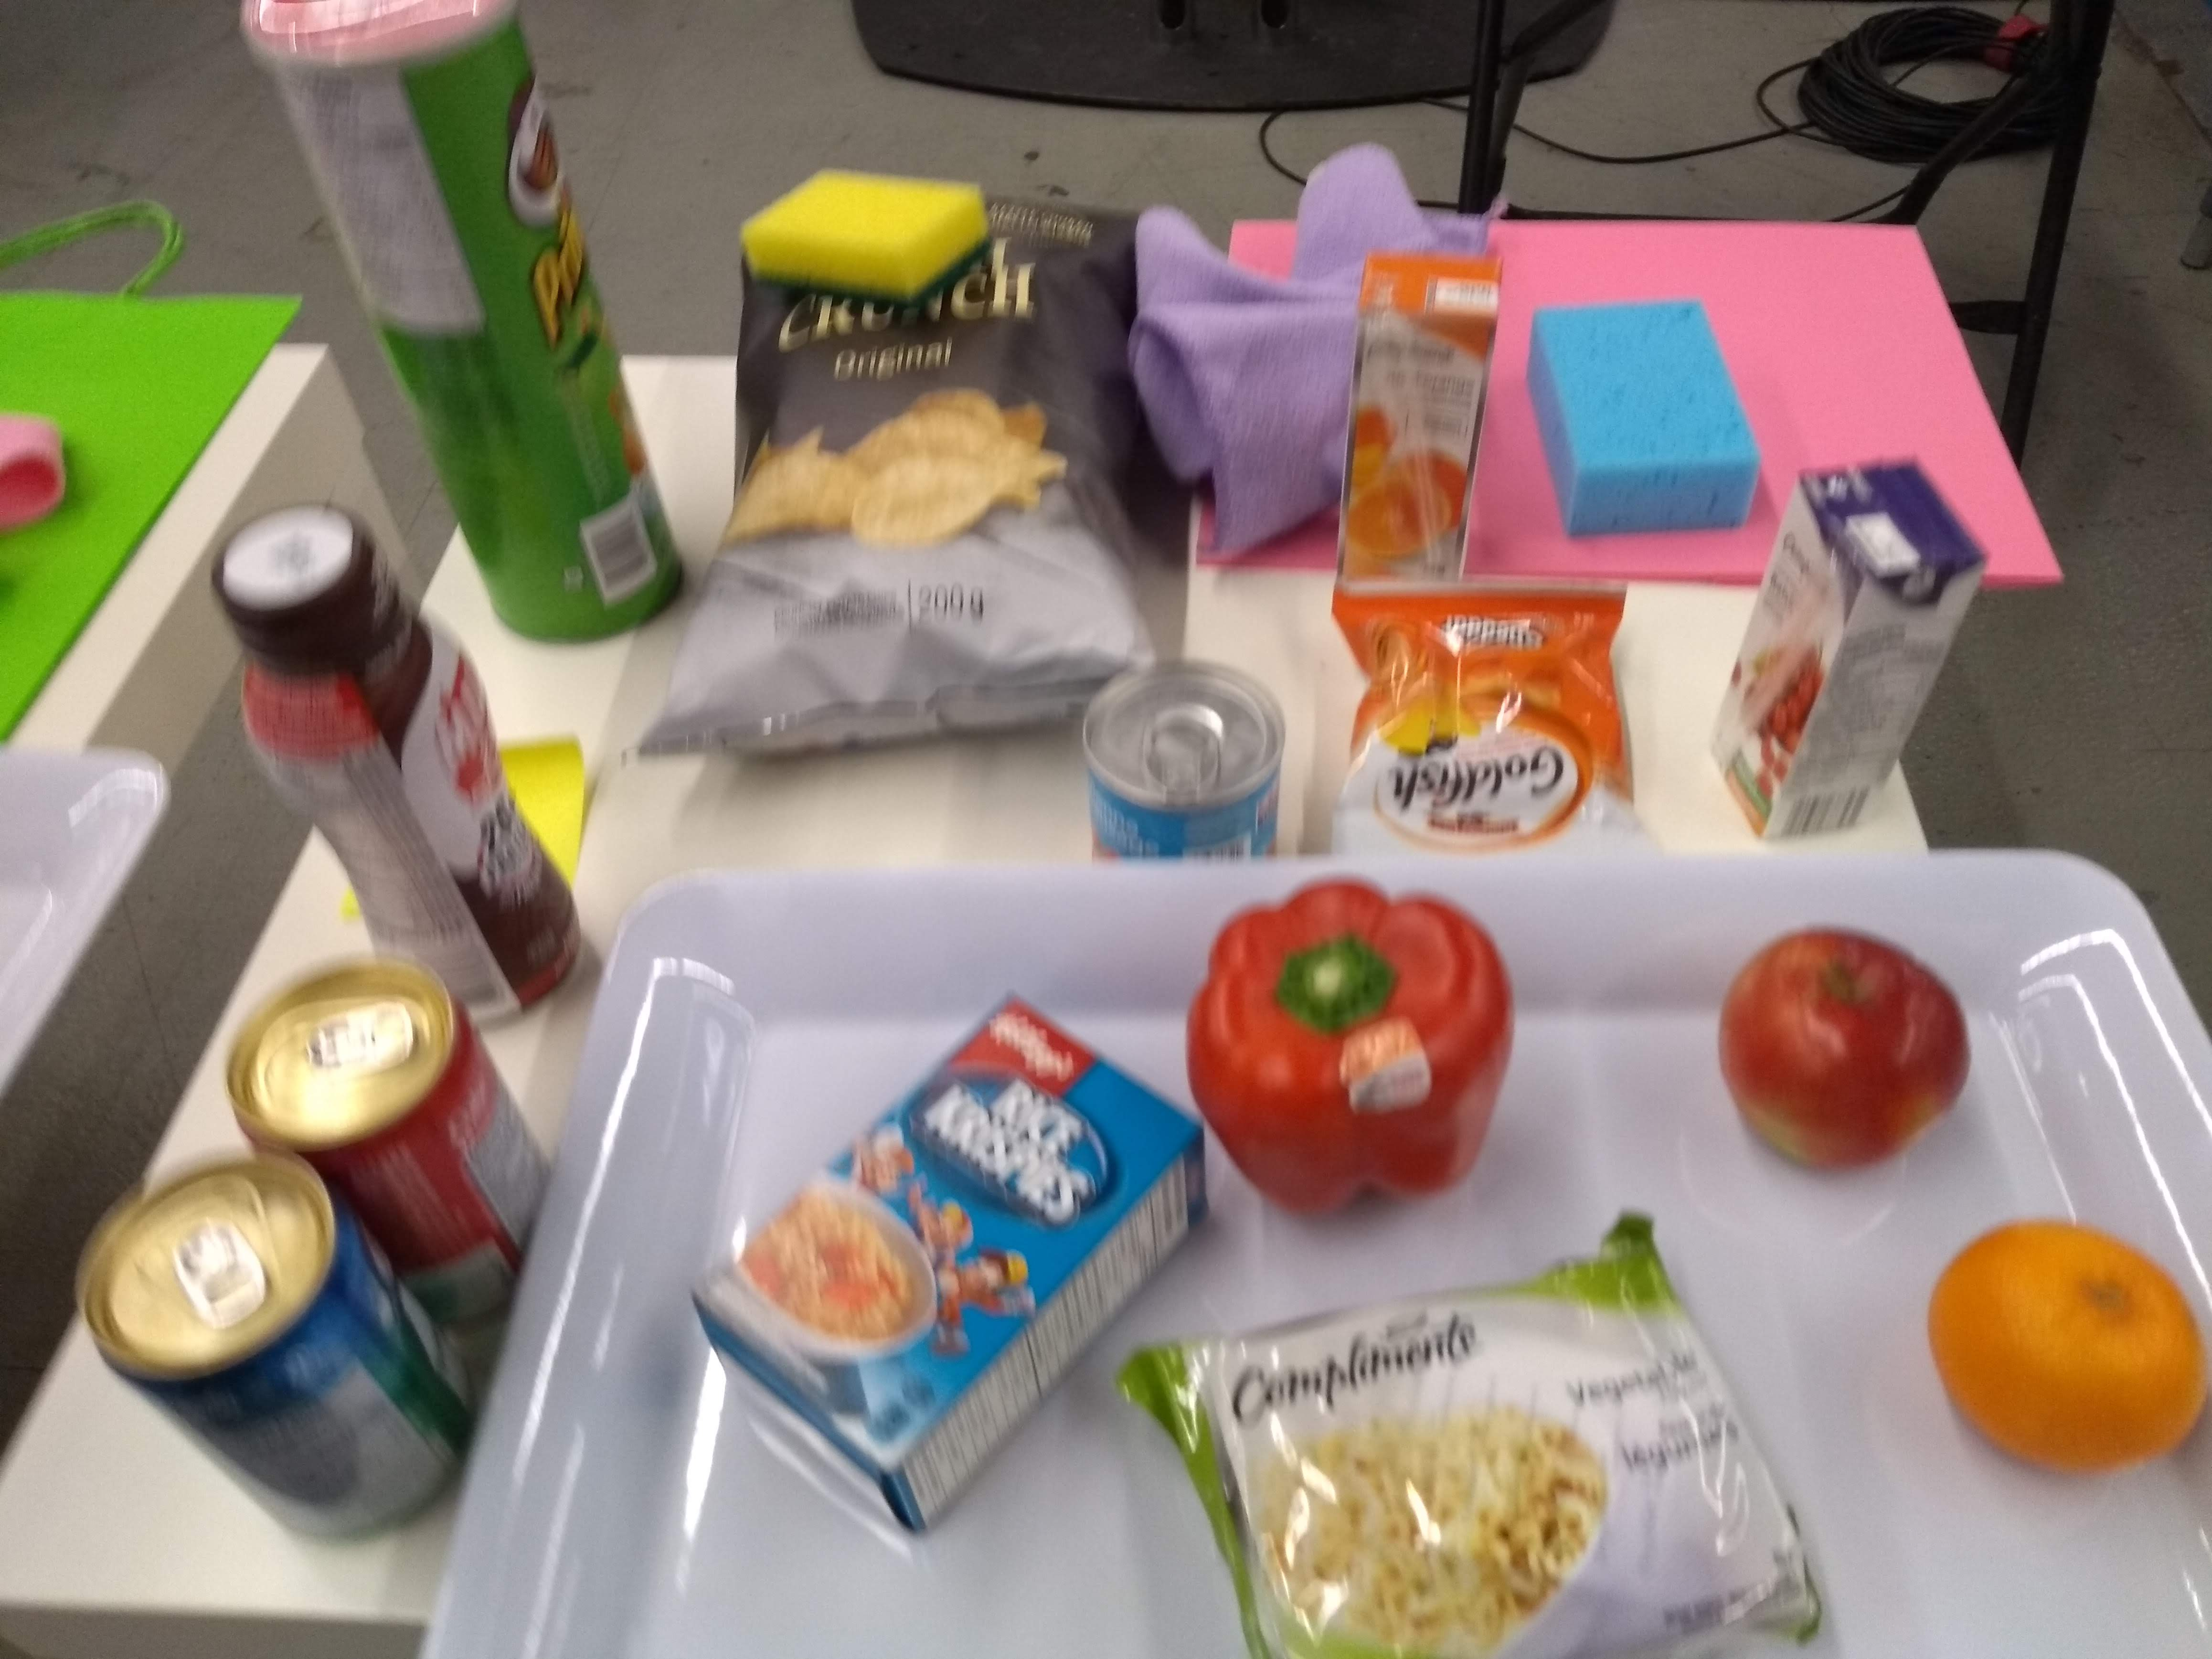apple: (1710, 910, 1979, 1188)
cereal: (688, 976, 1212, 1539)
chocolate_drink: (204, 491, 589, 1030)
grape_juice: (1698, 443, 2001, 842)
noodles: (1115, 1195, 1839, 1659)
orange: (1914, 1218, 2212, 1476)
orange_juice: (1331, 237, 1505, 594)
paprika: (1170, 870, 1529, 1223)
pringles: (232, 0, 698, 648)
sausages: (1075, 662, 1299, 870)
scrubby: (730, 152, 993, 308)
sponge_opl: (1514, 296, 1766, 547)
sprite: (70, 1141, 488, 1563)
